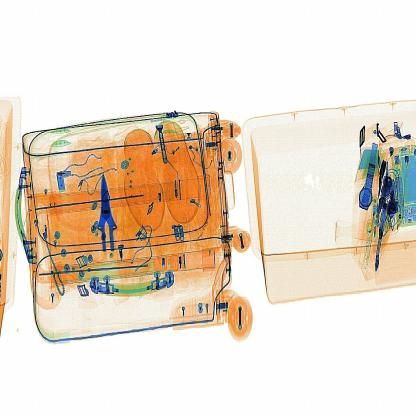gun: (82, 166, 136, 272)
